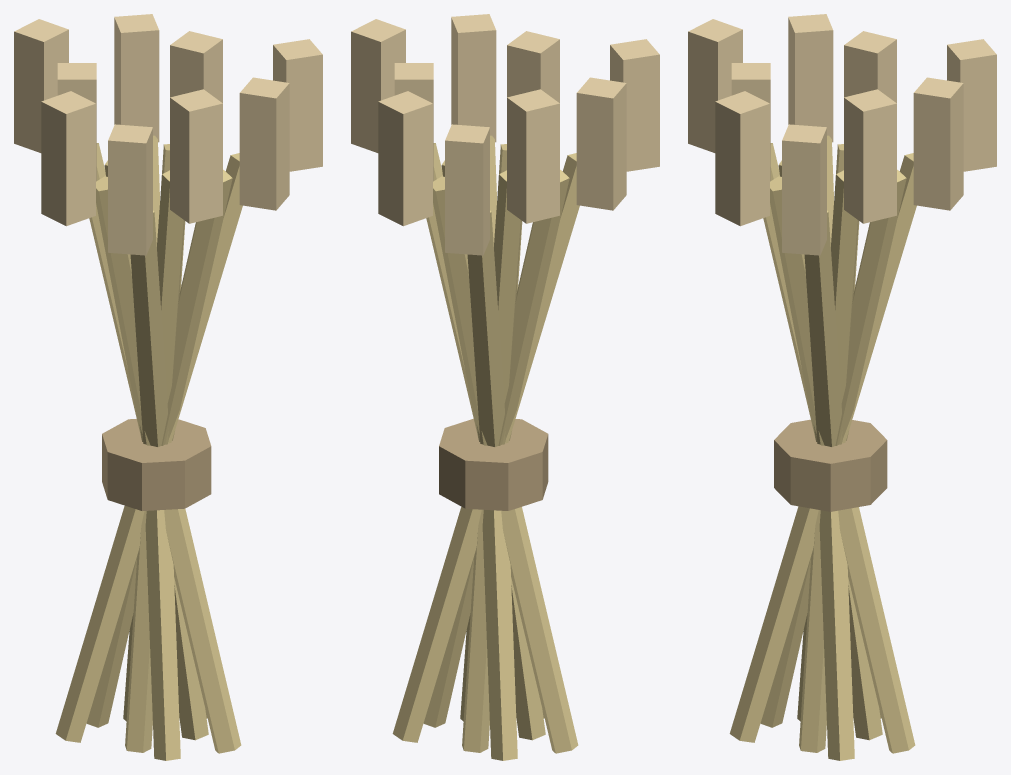
File: item_wheat.glb
3 renders of one model, left to right at view 1: azimuth 30°, elevation 25°; view 2: azimuth 150°, elevation 25°; view 3: azimuth 270°, elevation 25°, orthographic.
Parts seen in each view (by area): view 1: straw, crumb, rope; view 2: straw, crumb, rope; view 3: straw, crumb, rope.
Boxes of the visible parts, x1=… form: straw: x1=55, y1=135, x2=242, y2=760; crumb: x1=14, y1=14, x2=322, y2=255; rope: x1=102, y1=419, x2=211, y2=510; straw: x1=392, y1=135, x2=579, y2=760; crumb: x1=351, y1=14, x2=659, y2=255; rope: x1=439, y1=418, x2=548, y2=510; straw: x1=729, y1=135, x2=916, y2=760; crumb: x1=688, y1=14, x2=996, y2=255; rope: x1=774, y1=419, x2=887, y2=511.
Bounding box in the file's own units: 0.1732 × 0.4146 × 0.1746.
